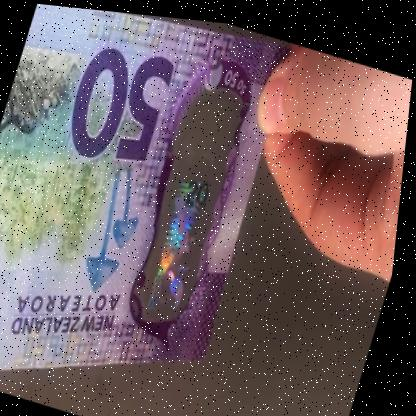50B: (139, 99, 242, 320)
